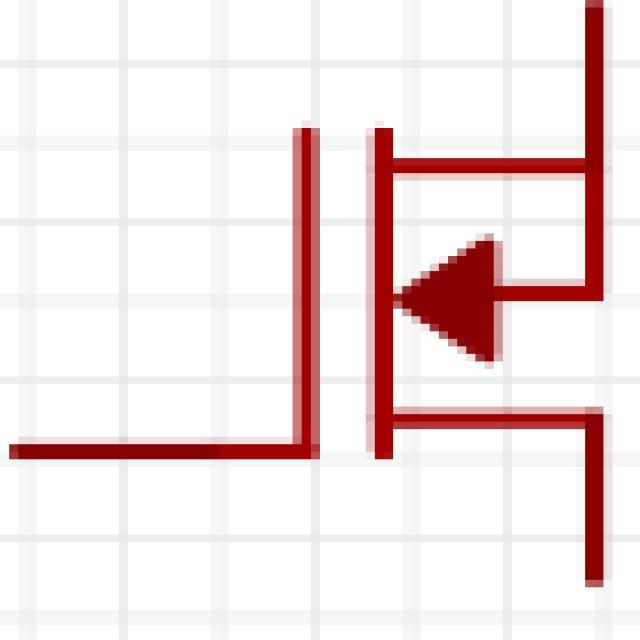nmos: (26, 6, 640, 585)
